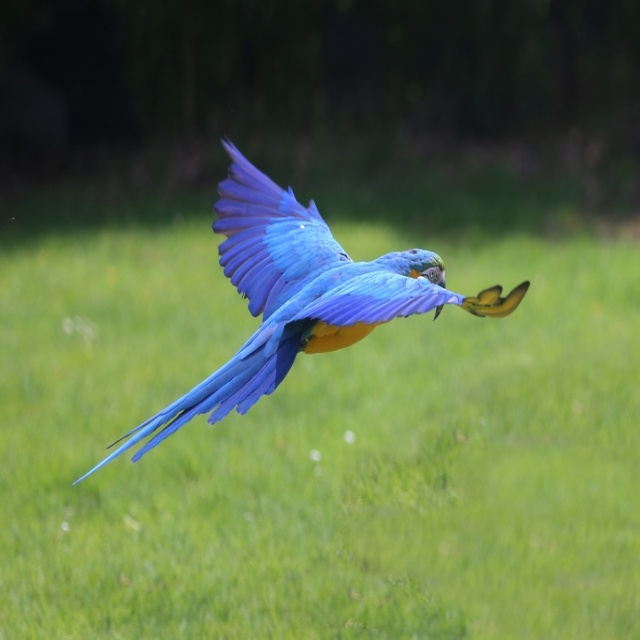Parrot: (71, 136, 531, 492)
